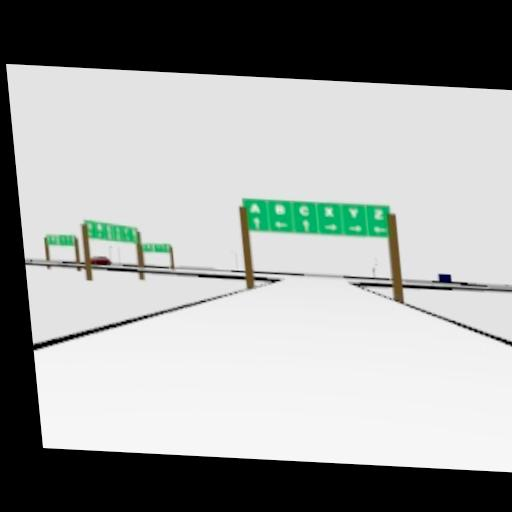A: (249, 202, 261, 214)
B: (275, 204, 285, 215)
C: (298, 205, 310, 217)
Left: (119, 224, 131, 241), (373, 226, 388, 234), (274, 221, 289, 228), (110, 232, 120, 242), (142, 243, 156, 250), (54, 234, 66, 242), (161, 244, 169, 251)
Right: (324, 223, 339, 231), (348, 225, 363, 232)
Straight: (302, 219, 310, 231), (253, 217, 261, 228)
X: (323, 206, 335, 218)
Y: (347, 208, 359, 219)
Z: (85, 220, 94, 237), (372, 208, 384, 219), (130, 227, 138, 241), (105, 223, 111, 240), (46, 234, 56, 243), (96, 222, 101, 232)
